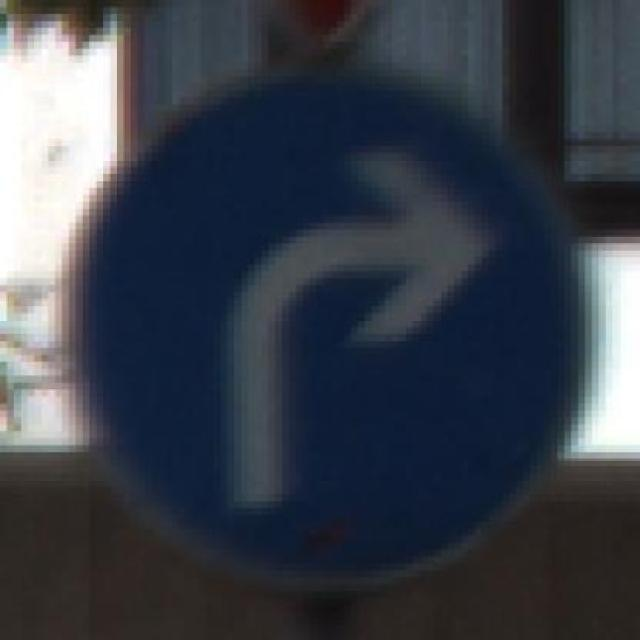Turn right ahead: (48, 70, 612, 592)
